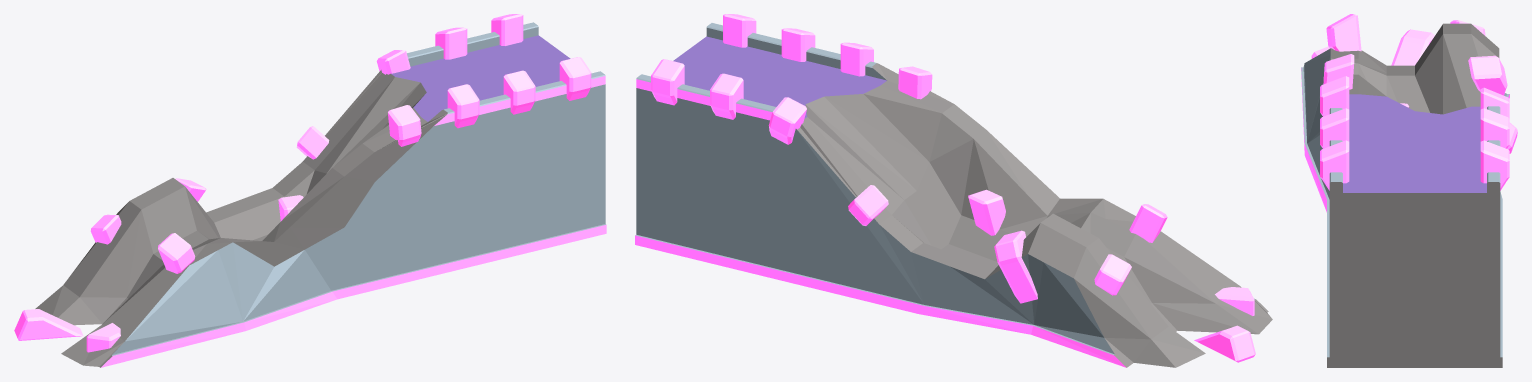
File: castle_wall_broken1.fbx
3 views of the same model, side by side, from view 1: azimuth 30°, elevation 25°; view 2: azimuth 150°, elevation 25°; view 3: azimuth 270°, elevation 25° (orthographic). The views are drawn at different scales.
Visible parts, largest first — view 1: castle_wall_broken1_1, merlons; view 2: castle_wall_broken1_1, merlons; view 3: castle_wall_broken1_1, merlons.
Part boxes in pixels (bbox=[...]): castle_wall_broken1_1: bbox=[35, 22, 606, 367]; merlons: bbox=[14, 14, 591, 352]; castle_wall_broken1_1: bbox=[635, 23, 1272, 367]; merlons: bbox=[651, 14, 1255, 362]; castle_wall_broken1_1: bbox=[1301, 23, 1509, 367]; merlons: bbox=[1311, 14, 1517, 190].
Size of the model in its own units: 4663 by 1419 by 1347.
